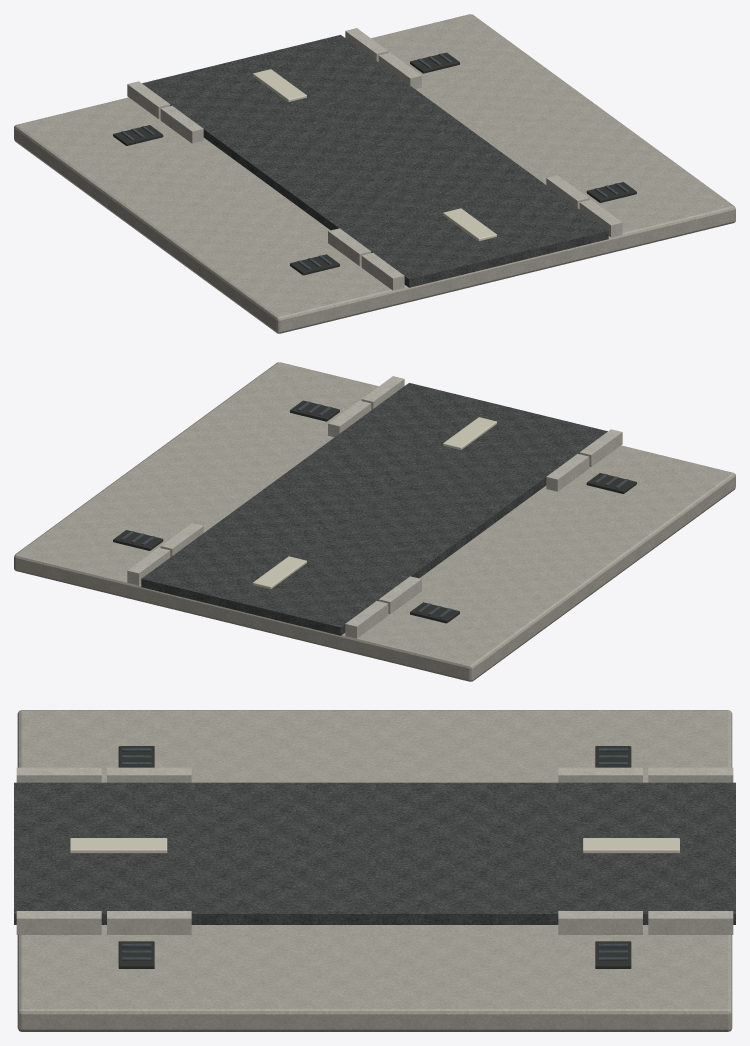
The model's file is ROAD_LOCAL_1x1_STRAIGHT.glb.
3 renders of one model, top to bottom at view 1: azimuth 30°, elevation 25°; view 2: azimuth 150°, elevation 25°; view 3: azimuth 270°, elevation 25°, orthographic. The views are drawn at different scales.
Visible parts, largest first — view 1: ROAD_LOCAL_1x1_STRAIGHT_Visual; view 2: ROAD_LOCAL_1x1_STRAIGHT_Visual; view 3: ROAD_LOCAL_1x1_STRAIGHT_Visual.
Boxes of the visible parts, x1=… form: ROAD_LOCAL_1x1_STRAIGHT_Visual: x1=14, y1=14, x2=735, y2=333; ROAD_LOCAL_1x1_STRAIGHT_Visual: x1=14, y1=362, x2=735, y2=681; ROAD_LOCAL_1x1_STRAIGHT_Visual: x1=14, y1=710, x2=735, y2=1031.
Size of what is drawn, in the model's own units: 1.98 by 0.12 by 2.
Materials: 6 (4 with a texture image).
